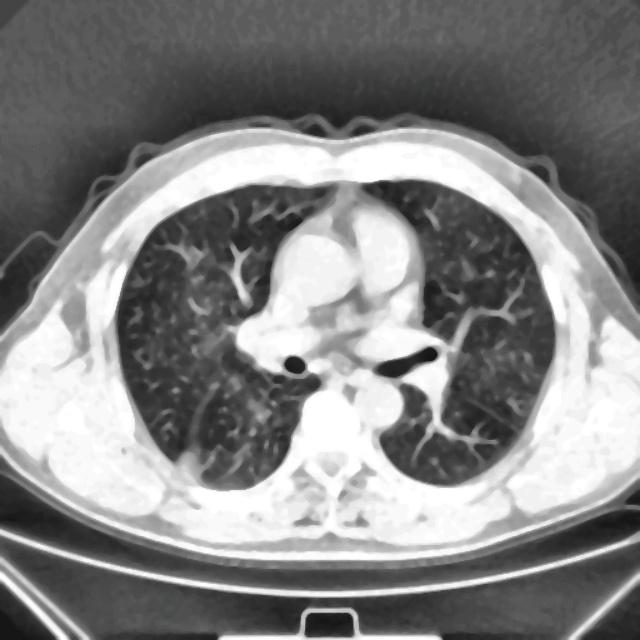covid: (0, 112, 638, 571)
